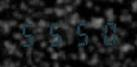five: (18, 20, 42, 47), (43, 20, 67, 47), (68, 19, 92, 46)
zero: (93, 19, 117, 46)
